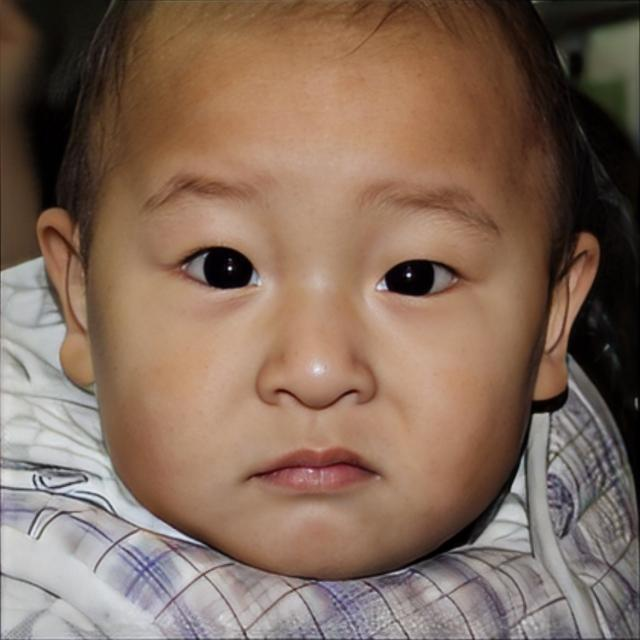disgust: (86, 2, 554, 581)
